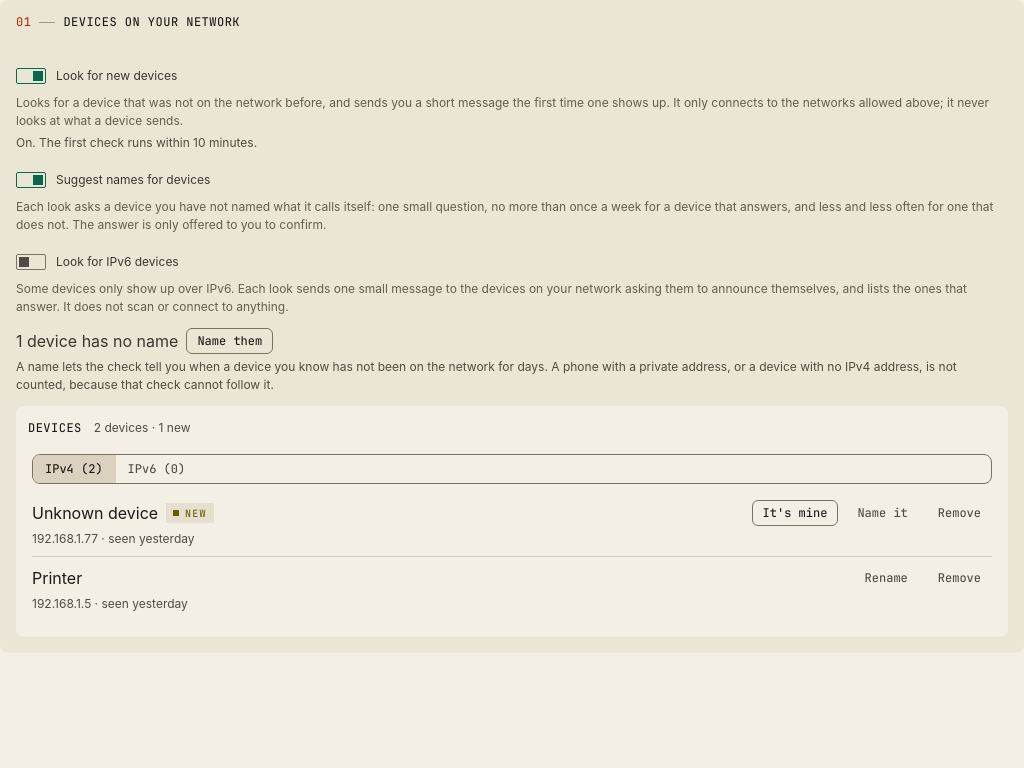
Test: DevicesCard › the switch for asking devices their names › says why it could not be saved
The width and height of the screenshot is (1024, 768).
Click the switch labelled "Suggest names for devices" at (113, 180), box [16,171,210,189]
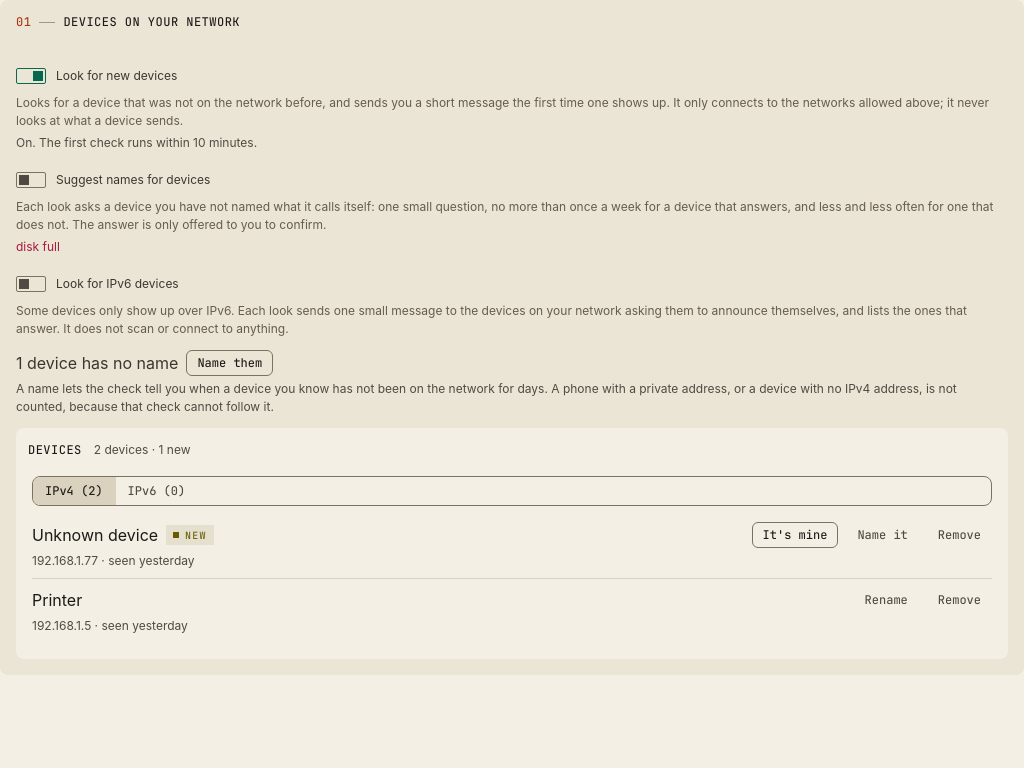
Expected: the message "disk full" is shown, [16,239,60,254]
